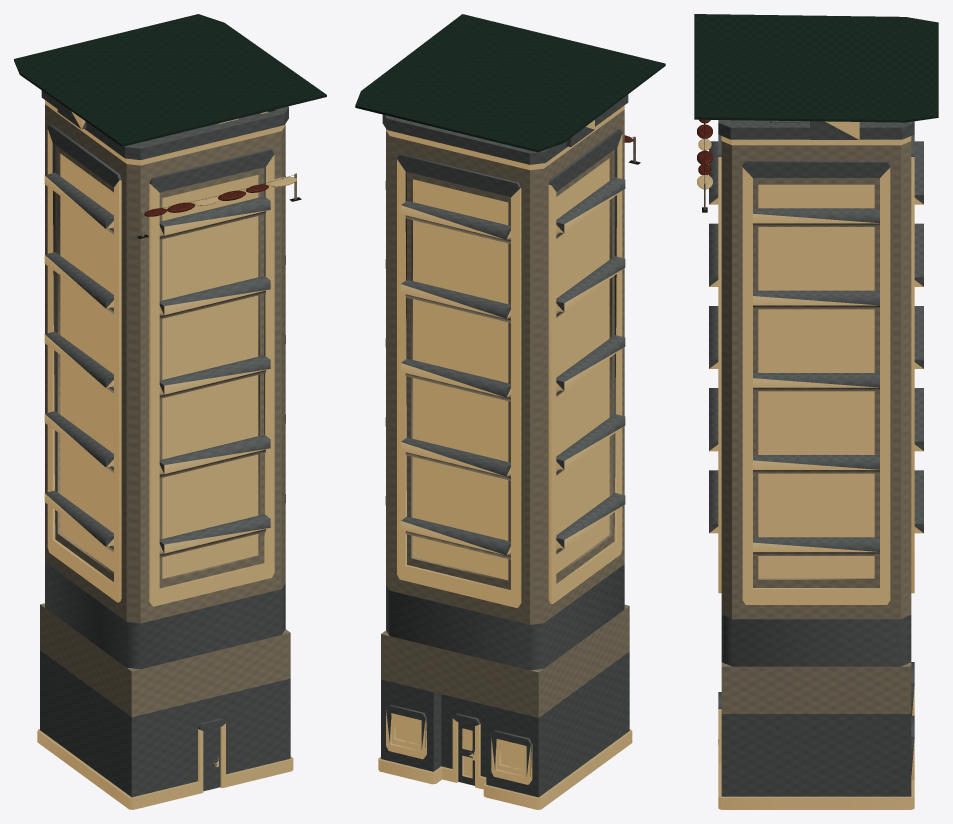
The model's file is lantern-tower.glb.
3 renders of one model, left to right at view 1: azimuth 30°, elevation 25°; view 2: azimuth 150°, elevation 25°; view 3: azimuth 270°, elevation 25°, orthographic. The views are drawn at different scales.
Parts seen in each view (by area): view 1: lantern-tower-building-skyscraper-a, detail-awning; view 2: lantern-tower-building-skyscraper-a, detail-awning; view 3: lantern-tower-building-skyscraper-a, detail-awning.
Part boxes in pixels (box(x1,y1,x2,y2)): lantern-tower-building-skyscraper-a: box(37, 90, 293, 809); detail-awning: box(14, 14, 326, 146); lantern-tower-building-skyscraper-a: box(378, 94, 632, 809); detail-awning: box(355, 14, 665, 152); lantern-tower-building-skyscraper-a: box(709, 120, 923, 809); detail-awning: box(694, 14, 938, 139).
Size of the model in its own units: 9.1 by 28.85 by 9.1.
6 materials, 6 textured.
